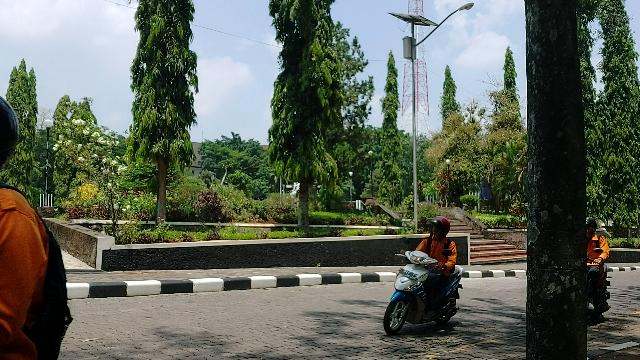helm: (426, 217, 452, 240)
motor: (383, 237, 465, 338)
